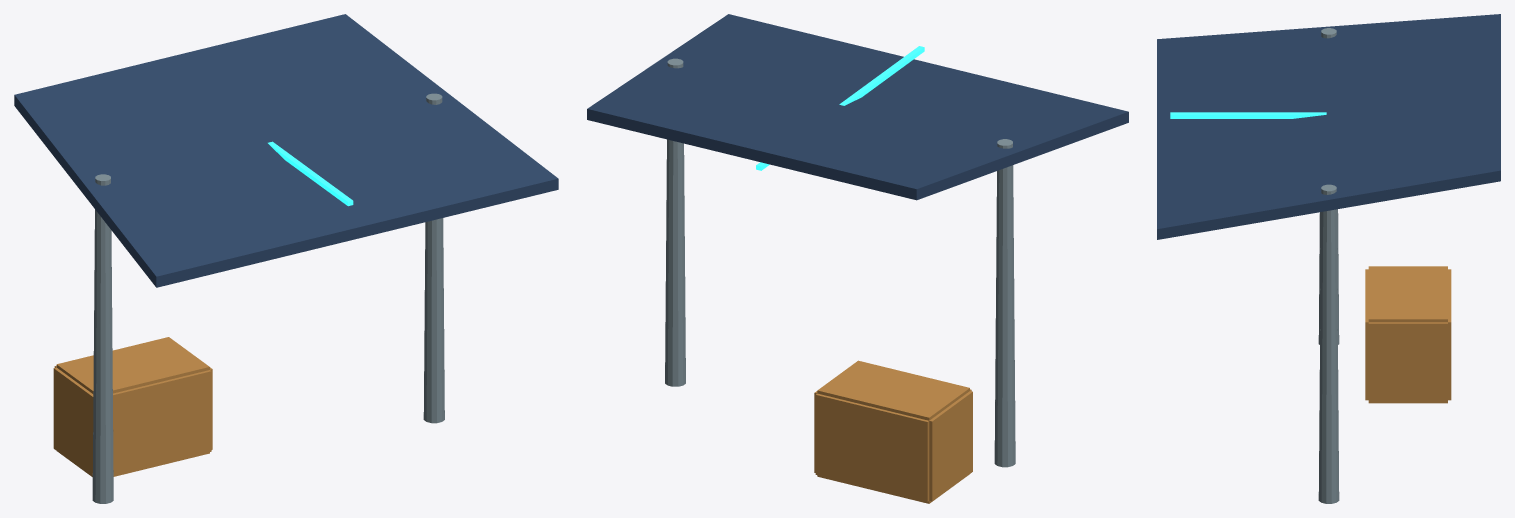
Rendered from Frontier_FieldShelter.glb.
3 views of the same model, side by side, from view 1: azimuth 30°, elevation 25°; view 2: azimuth 150°, elevation 25°; view 3: azimuth 270°, elevation 25° (orthographic). The views are drawn at different scales.
Visible parts, largest first — view 1: Frontier_FieldShelter_Canopy, Frontier_FieldShelter_SupplyBox, Frontier_FieldShelter_Frame; view 2: Frontier_FieldShelter_Canopy, Frontier_FieldShelter_SupplyBox, Frontier_FieldShelter_Frame; view 3: Frontier_FieldShelter_Canopy, Frontier_FieldShelter_SupplyBox, Frontier_FieldShelter_Frame.
Boxes of the visible parts, bbox=[...] form: Frontier_FieldShelter_Canopy: bbox=[14, 14, 558, 287]; Frontier_FieldShelter_SupplyBox: bbox=[53, 337, 212, 476]; Frontier_FieldShelter_Frame: bbox=[92, 93, 444, 503]; Frontier_FieldShelter_Canopy: bbox=[587, 14, 1128, 200]; Frontier_FieldShelter_SupplyBox: bbox=[814, 360, 972, 503]; Frontier_FieldShelter_Frame: bbox=[665, 58, 1015, 467]; Frontier_FieldShelter_Canopy: bbox=[1157, 14, 1500, 239]; Frontier_FieldShelter_SupplyBox: bbox=[1365, 266, 1451, 403]; Frontier_FieldShelter_Frame: bbox=[1318, 28, 1339, 503].
Bounding box in the file's own units: 3.4 × 2.74 × 2.6.
